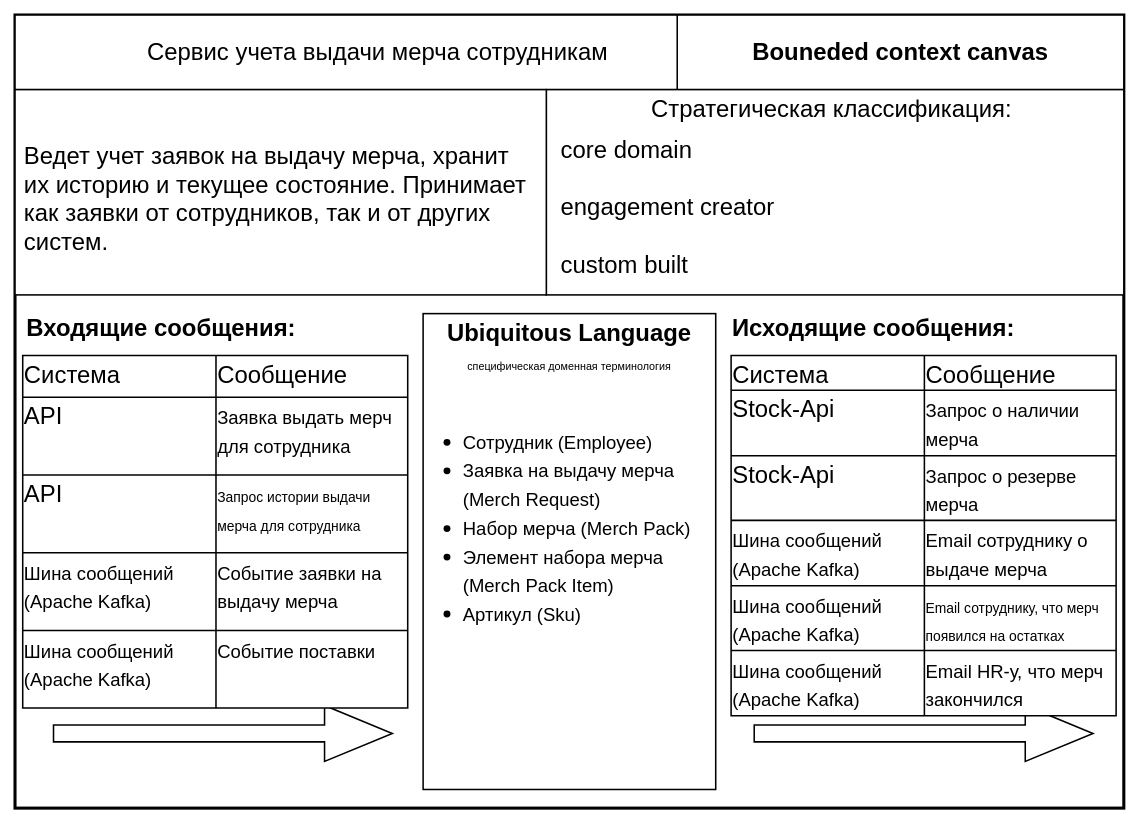
The diagram is 1138 pixels wide and 822 high, and some of its shapes have lost their labels. Each missing label, with the box of its shape:
Название:: (14, 14, 678, 90)
Описание:: (14, 88, 547, 295)
